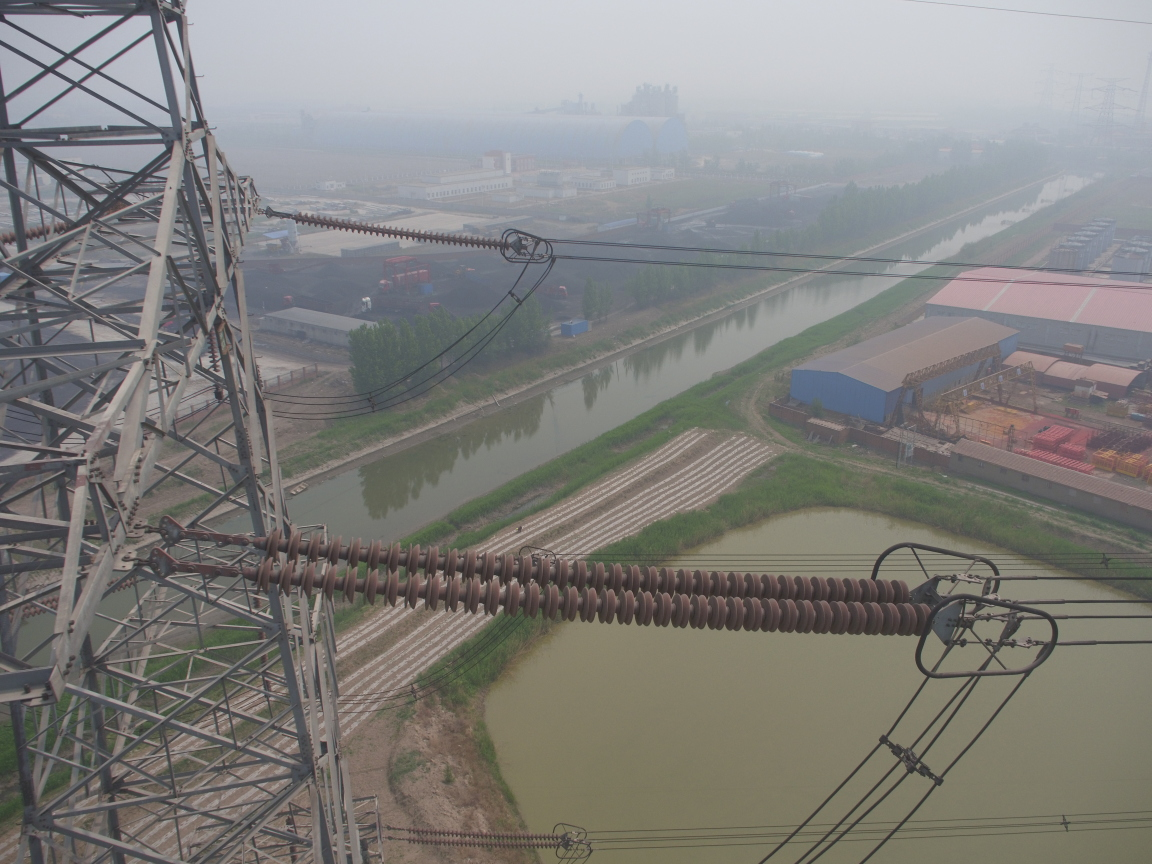insulator: (219, 525, 944, 637), (281, 207, 514, 253)
